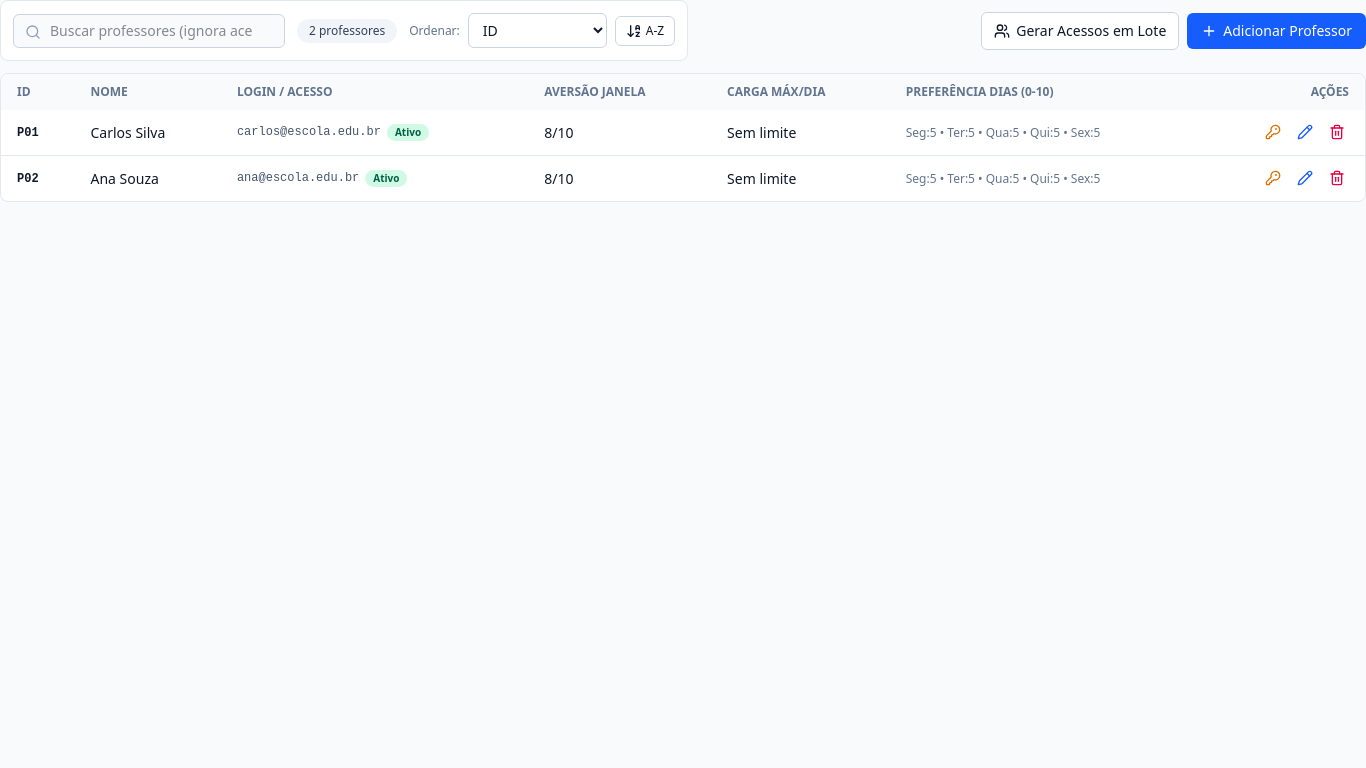
ProfessoresTab › enables ID editing, uses original code in PUT URL, invalidates related caches, and updates timetable targetId
Later steps or results of the test are not shown.
What coordinates should you click on to do the following:
click the button named "Editar Carlos Silva"
I would click on:
 (1305, 132)
Its box is [1293,120,1317,144].
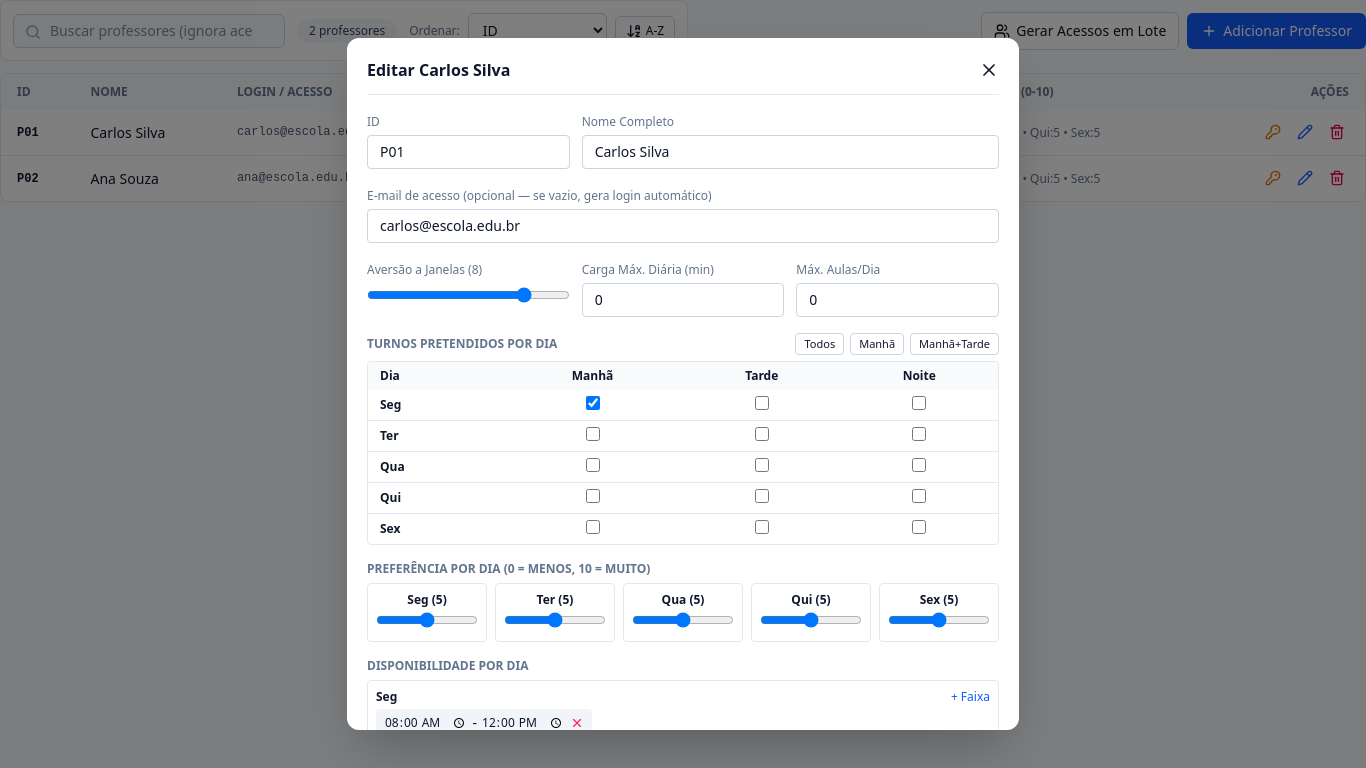
Check: the field labelled "ID" is enabled, box [367,135,570,169]
Check: the field labelled "ID" holds "P01", box [367,135,570,169]
